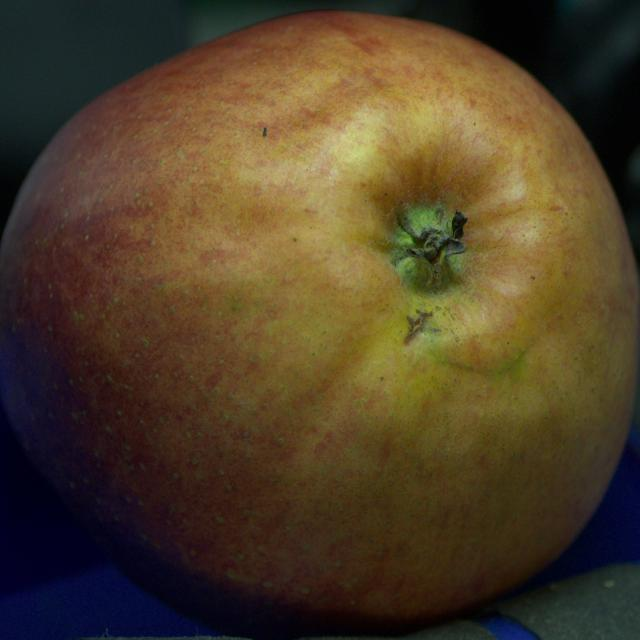apple: (0, 12, 639, 638)
scratch: (406, 309, 432, 342)
